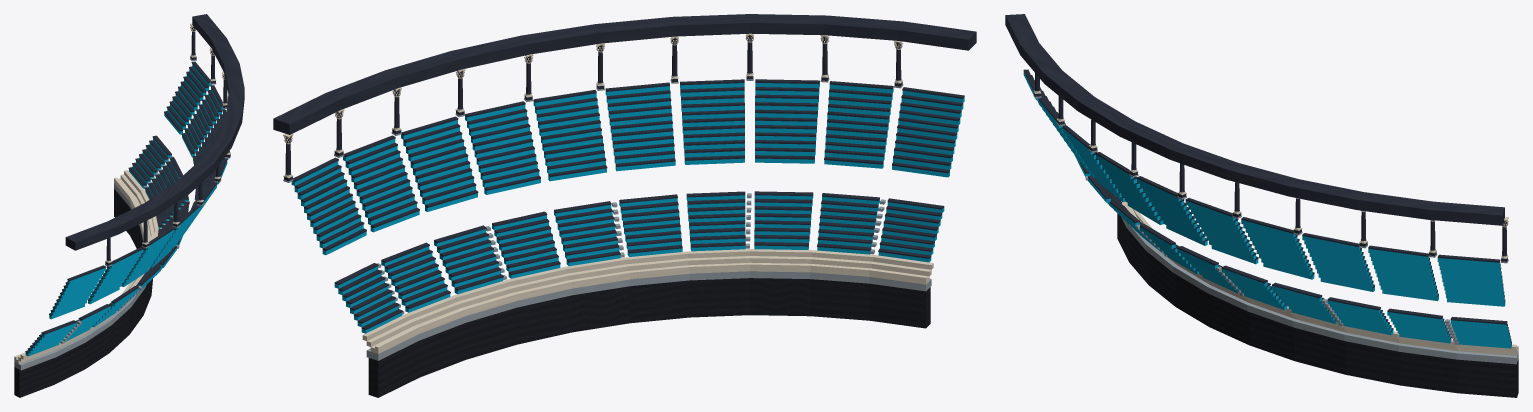
File: COL_CaveaSeating_Q1.glb
3 renders of one model, left to right at view 1: azimuth 30°, elevation 25°; view 2: azimuth 150°, elevation 25°; view 3: azimuth 270°, elevation 25°, orthographic. The views are drawn at different scales.
Visible parts, largest first — view 1: COL_CaveaSeating_Q1; view 2: COL_CaveaSeating_Q1; view 3: COL_CaveaSeating_Q1.
Part boxes in pixels (<box>): COL_CaveaSeating_Q1: <box>14,14,244,397</box>; COL_CaveaSeating_Q1: <box>273,14,976,397</box>; COL_CaveaSeating_Q1: <box>1005,14,1518,397</box>.
Bounding box in the file's own units: 113 × 58.2 × 118.
7 materials, 7 textured.
